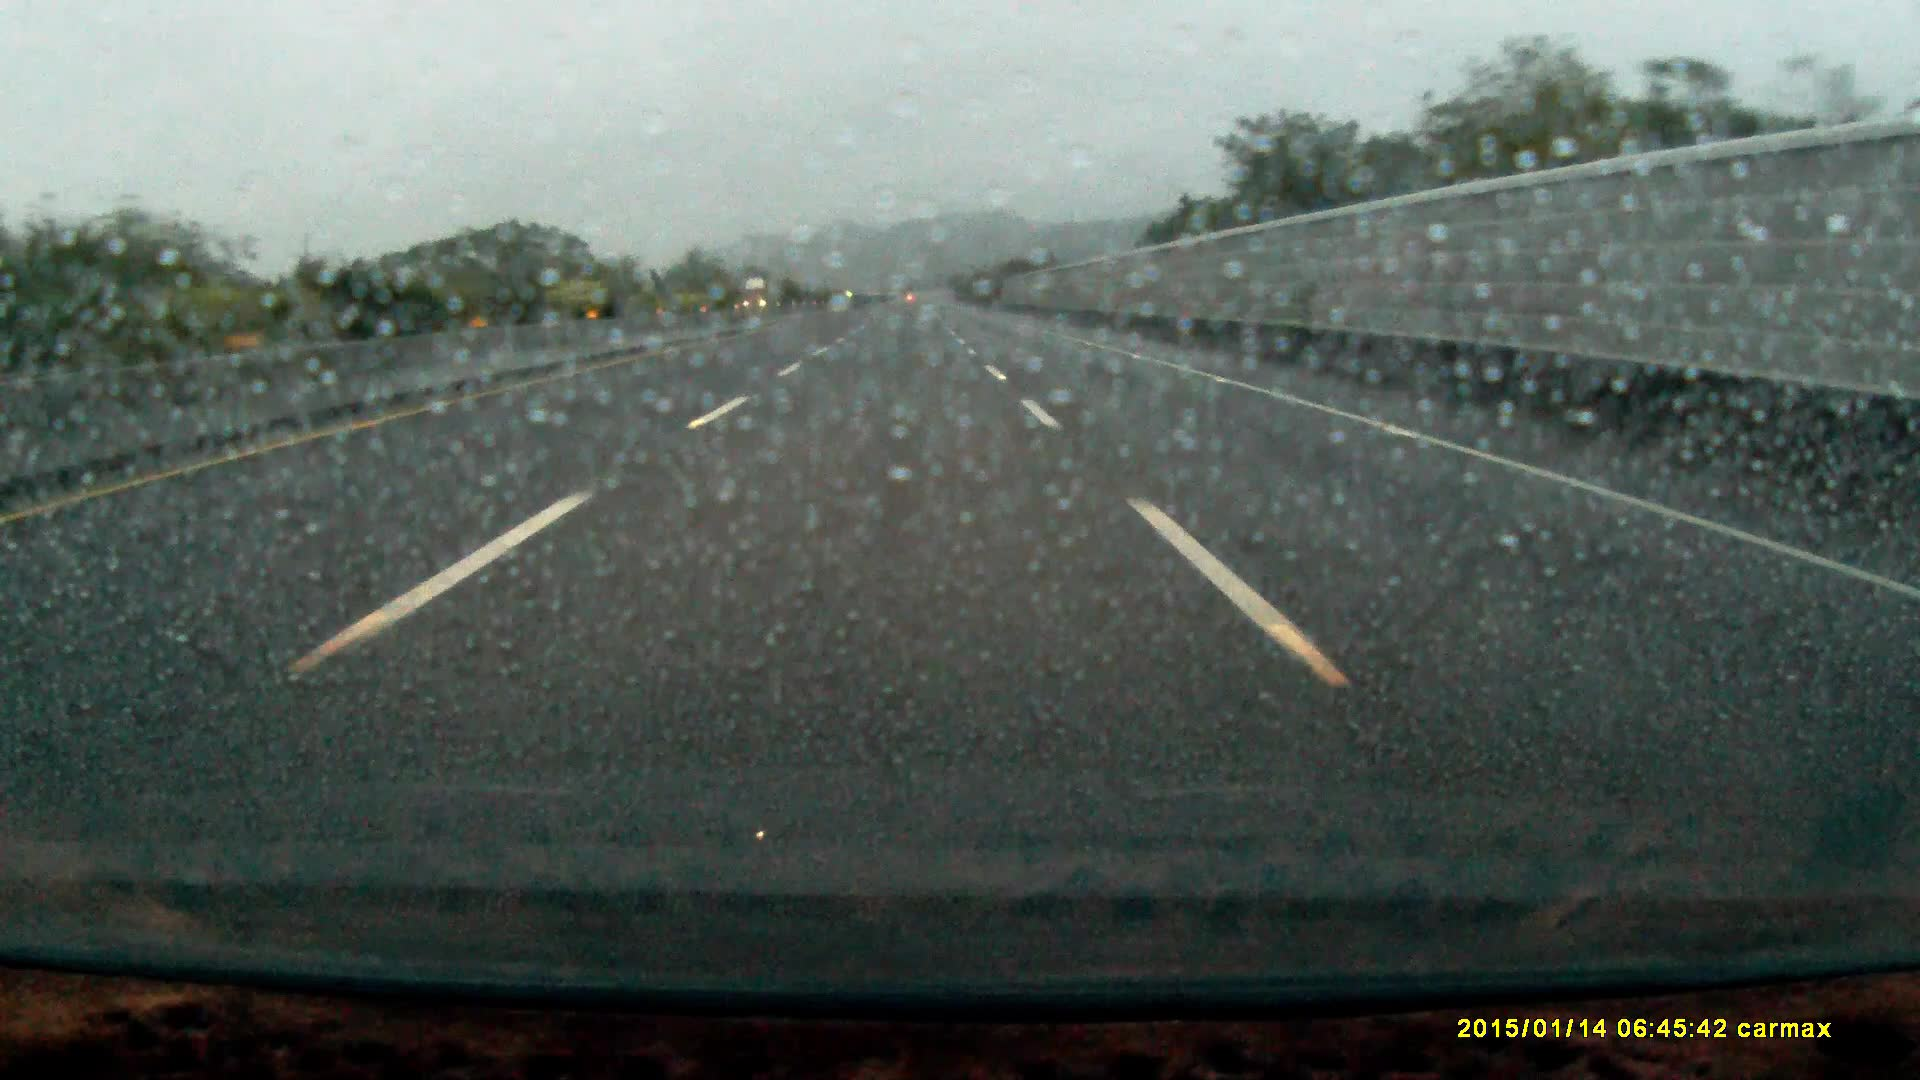vehicle: (742, 277, 775, 309)
